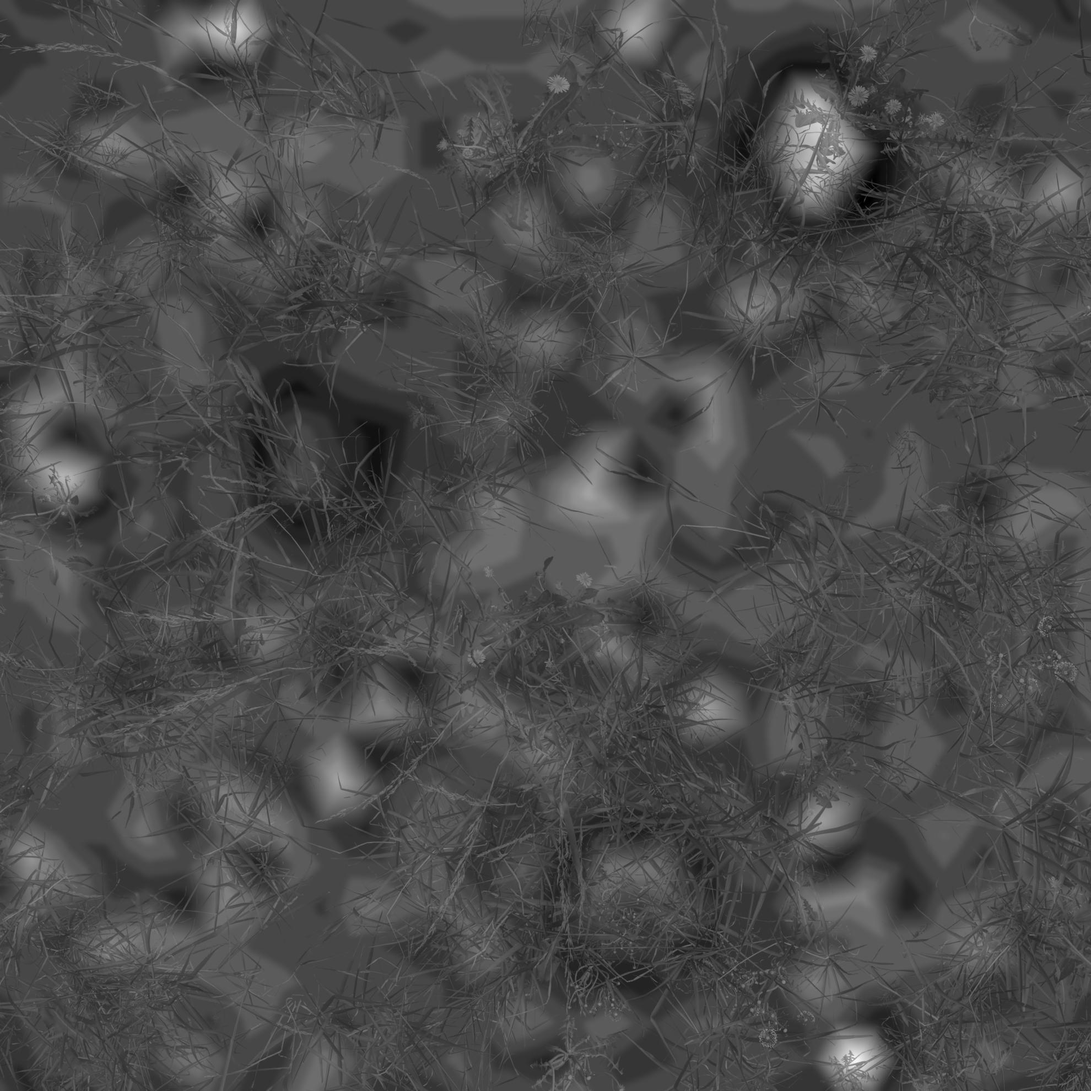landmine: (226, 356, 405, 547), (543, 807, 718, 973), (729, 60, 885, 223)
